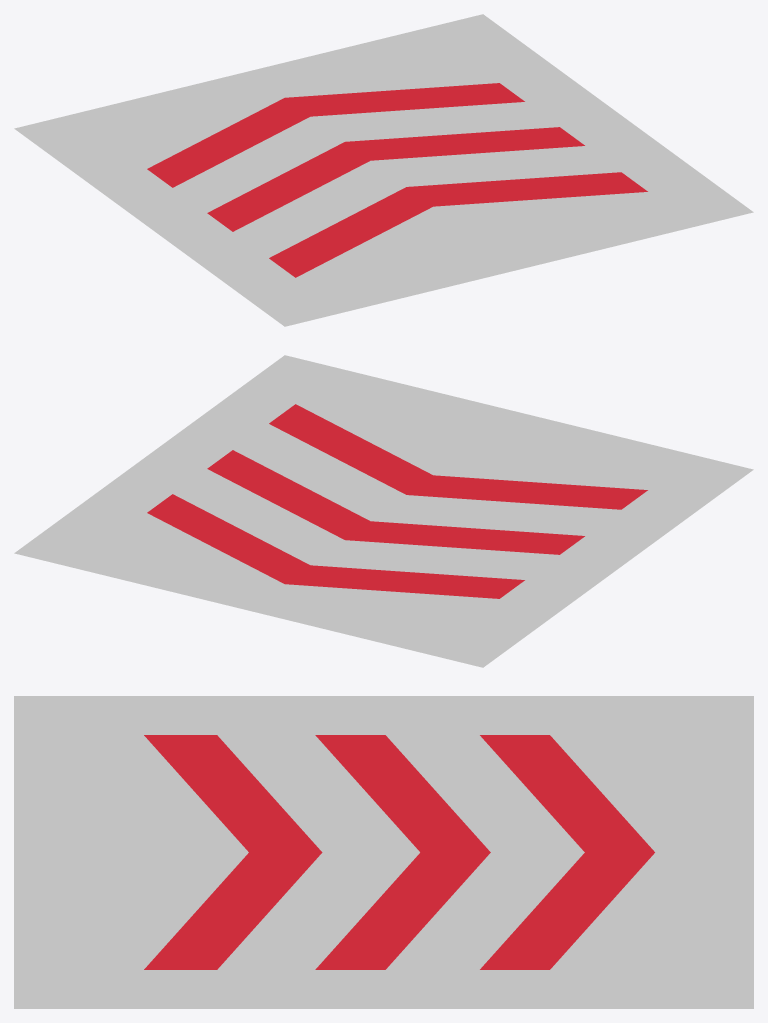
File: push.fbx
3 views of the same model, one above another, from view 1: azimuth 30°, elevation 25°; view 2: azimuth 150°, elevation 25°; view 3: azimuth 270°, elevation 25° (orthographic). The views are drawn at different scales.
Parts seen in each view (by area): view 1: Push; view 2: Push; view 3: Push.
Boxes of the visible parts, x1,y1,x2,y2 form: Push: (14,14,753,326); Push: (14,355,753,667); Push: (14,696,753,1008).
Size of the model in its own units: 200 by 0 by 200.
